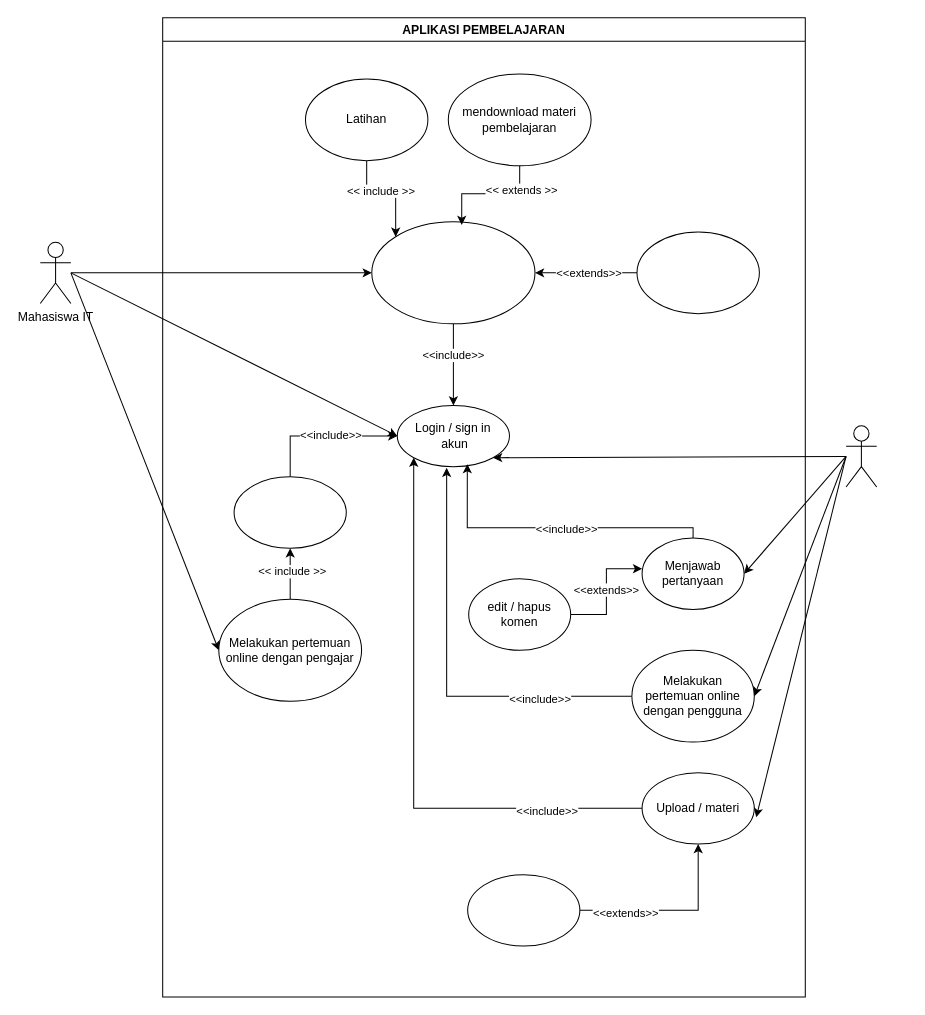
Image size: 925x1015. Some labels were removed from this diagram. Each missing label, with the centre of its shape:
"Berlangganan" belongs at pixel 289 512.
"Bertanya kepada pengajar" belongs at pixel 697 272.
"edit / hapus materi" belongs at pixel 523 910.
"Mencari dan memulai suatu sesi pembelajaran" belongs at pixel 453 272.
"Pengajar / Admin" belongs at pixel 861 456.
